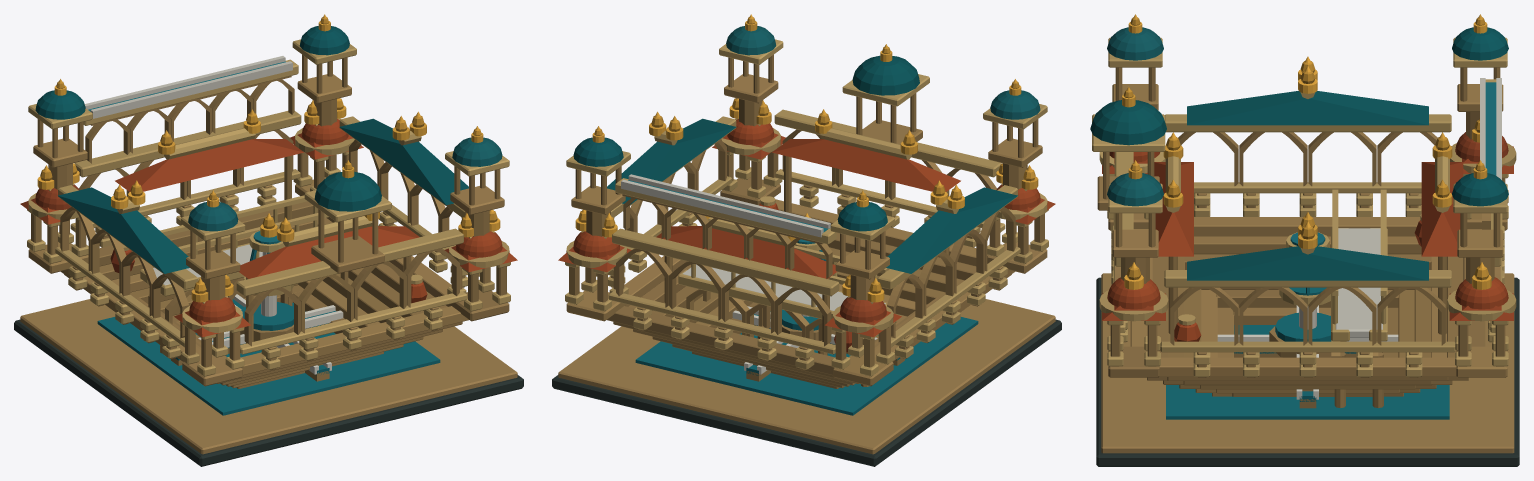
3 renders of one model, left to right at view 1: azimuth 30°, elevation 25°; view 2: azimuth 150°, elevation 25°; view 3: azimuth 270°, elevation 25°, orthographic. The views are drawn at different scales.
Visible parts, largest first — view 1: stepwell_level15_structure, stepwell_level15_metal; view 2: stepwell_level15_structure, stepwell_level15_metal; view 3: stepwell_level15_structure, stepwell_level15_metal.
Part boxes in pixels (x1=…): stepwell_level15_structure: x1=14, y1=17, x2=523, y2=466; stepwell_level15_metal: x1=37, y1=14, x2=500, y2=302; stepwell_level15_structure: x1=552, y1=17, x2=1061, y2=466; stepwell_level15_metal: x1=575, y1=14, x2=1038, y2=302; stepwell_level15_structure: x1=1090, y1=17, x2=1519, y2=466; stepwell_level15_metal: x1=1122, y1=14, x2=1491, y2=289.
Bounding box in the file's own units: 5.6 × 4.26 × 5.68.
